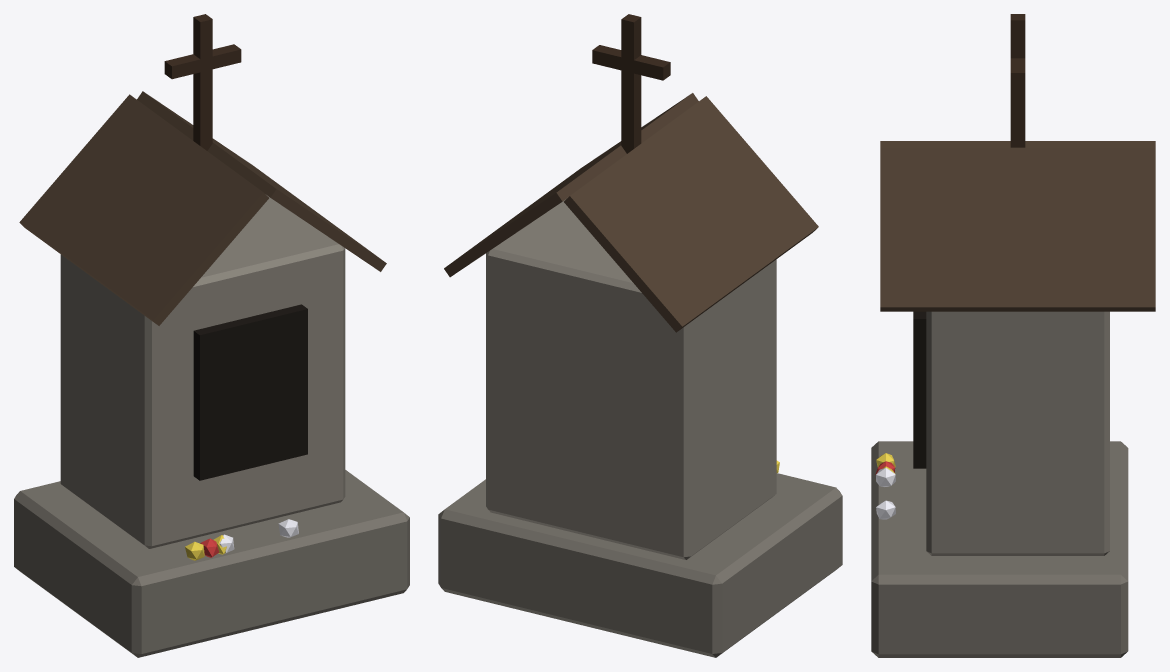
File: shrine_1.glb
3 renders of one model, left to right at view 1: azimuth 30°, elevation 25°; view 2: azimuth 150°, elevation 25°; view 3: azimuth 270°, elevation 25°, orthographic. The views are drawn at different scales.
Parts seen in each view (by area): view 1: shrine1_stone, shrine1_wood, shrine1_soot, shrine1_cloth; view 2: shrine1_stone, shrine1_wood; view 3: shrine1_stone, shrine1_wood, shrine1_soot, shrine1_cloth.
Part boxes in pixels (left/top/right/bottom): shrine1_stone: left=14, top=195, right=409, bottom=657; shrine1_wood: left=19, top=14, right=386, bottom=325; shrine1_soot: left=193, top=304, right=307, bottom=480; shrine1_cloth: left=185, top=519, right=298, bottom=560; shrine1_stone: left=438, top=199, right=842, bottom=657; shrine1_wood: left=444, top=14, right=818, bottom=332; shrine1_stone: left=871, top=311, right=1128, bottom=657; shrine1_wood: left=880, top=14, right=1155, bottom=311; shrine1_soot: left=913, top=311, right=926, bottom=468; shrine1_cloth: left=875, top=453, right=895, bottom=519.
Size of the model in its own units: 1.8 by 3.45 by 1.55.
